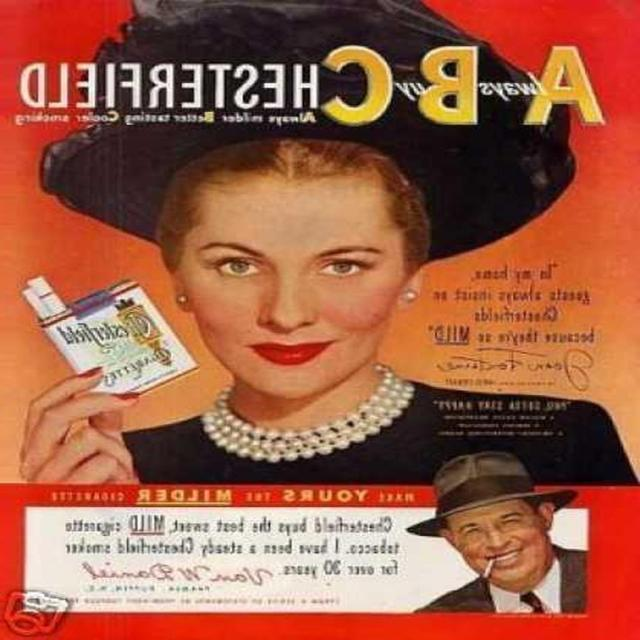smoking: (454, 493, 552, 594)
